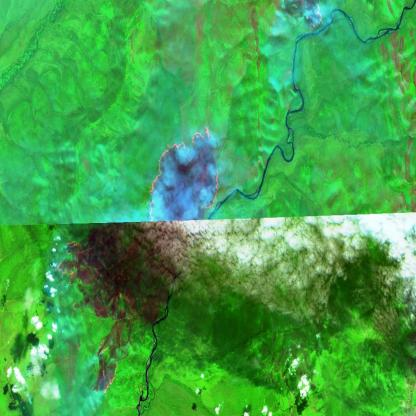fire: (53, 236, 118, 399), (144, 114, 224, 229), (295, 0, 327, 32)
